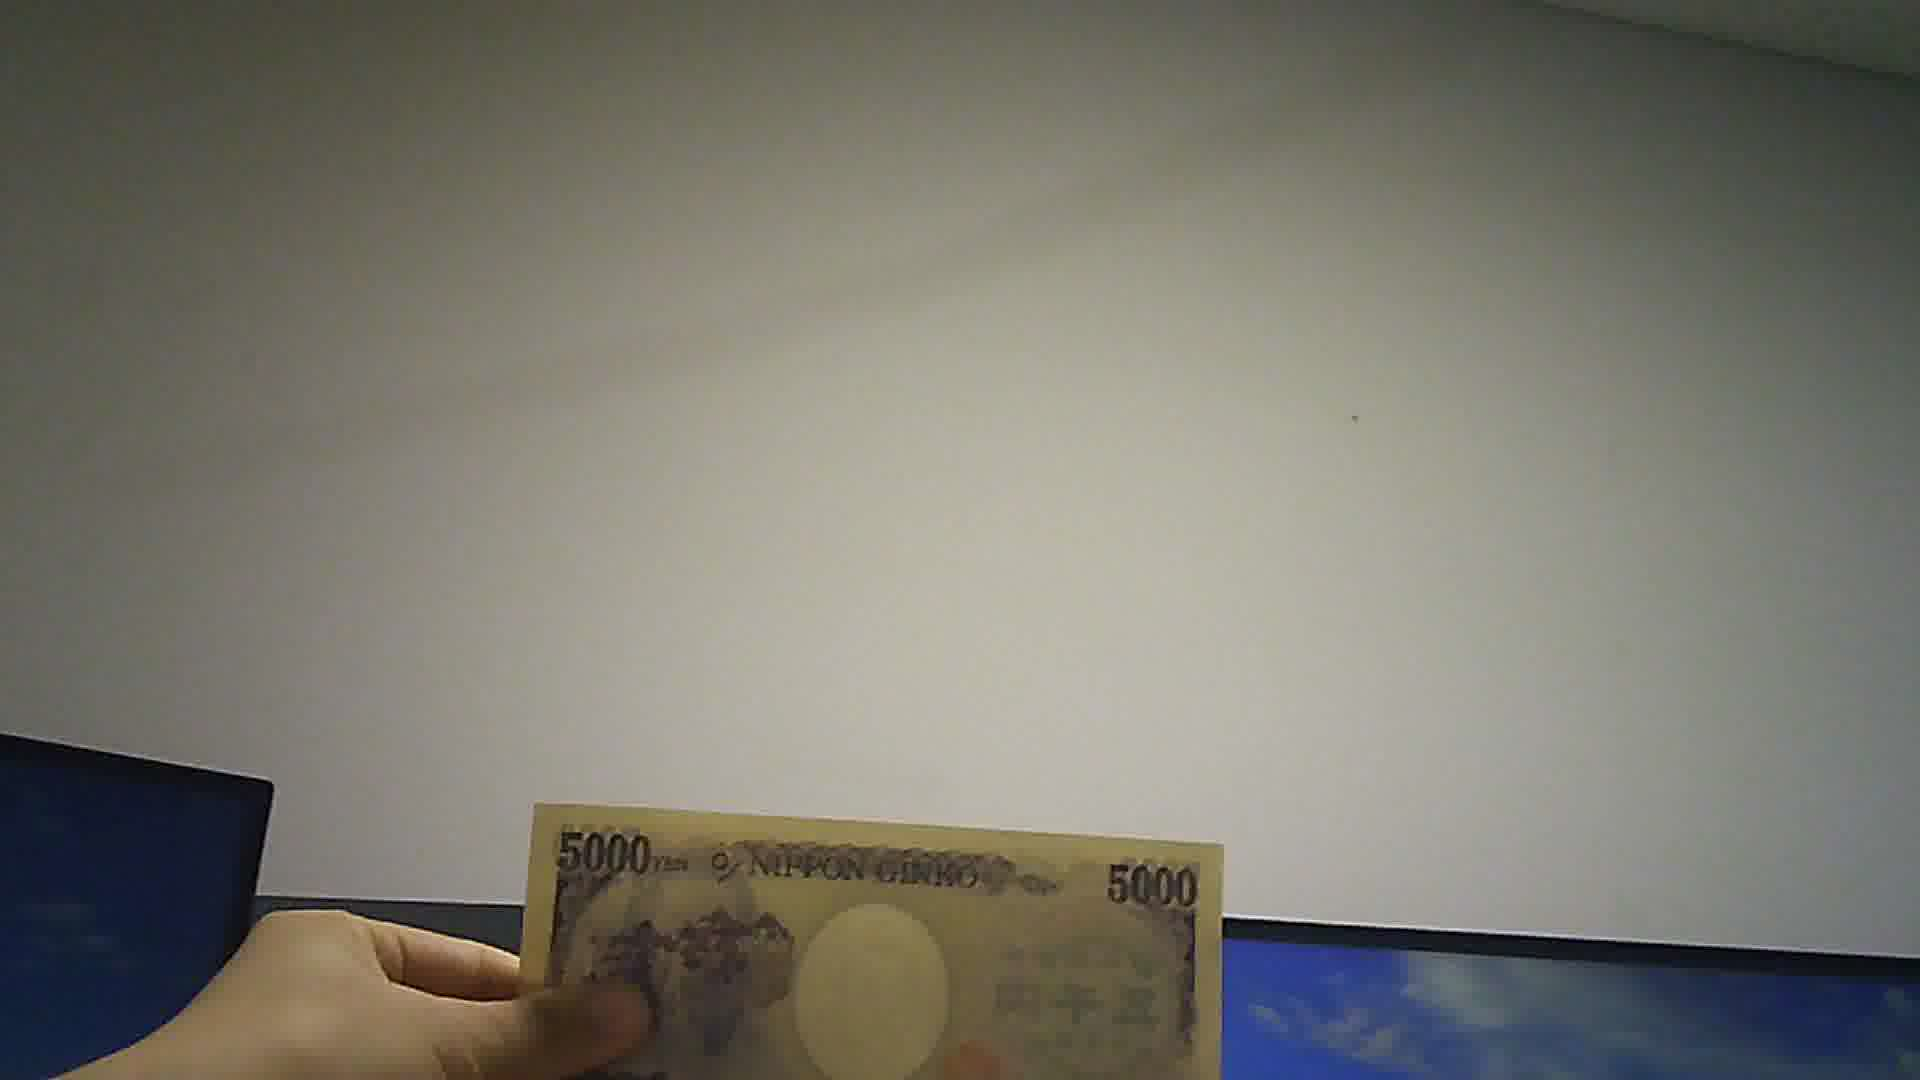5,000 Yen: (516, 781, 1240, 1064)
